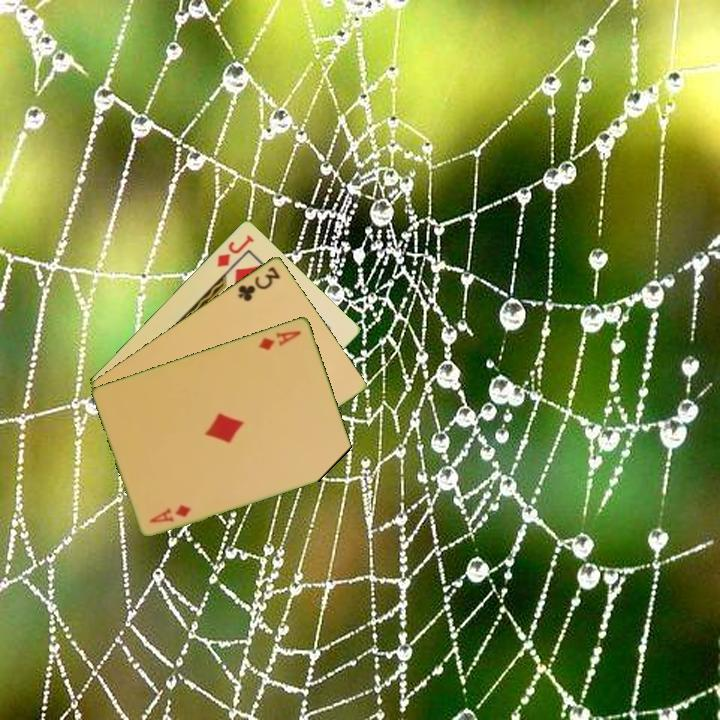3c: (234, 262, 283, 304)
Ad: (255, 326, 304, 353), (146, 500, 194, 526)
Jd: (213, 231, 257, 270)
